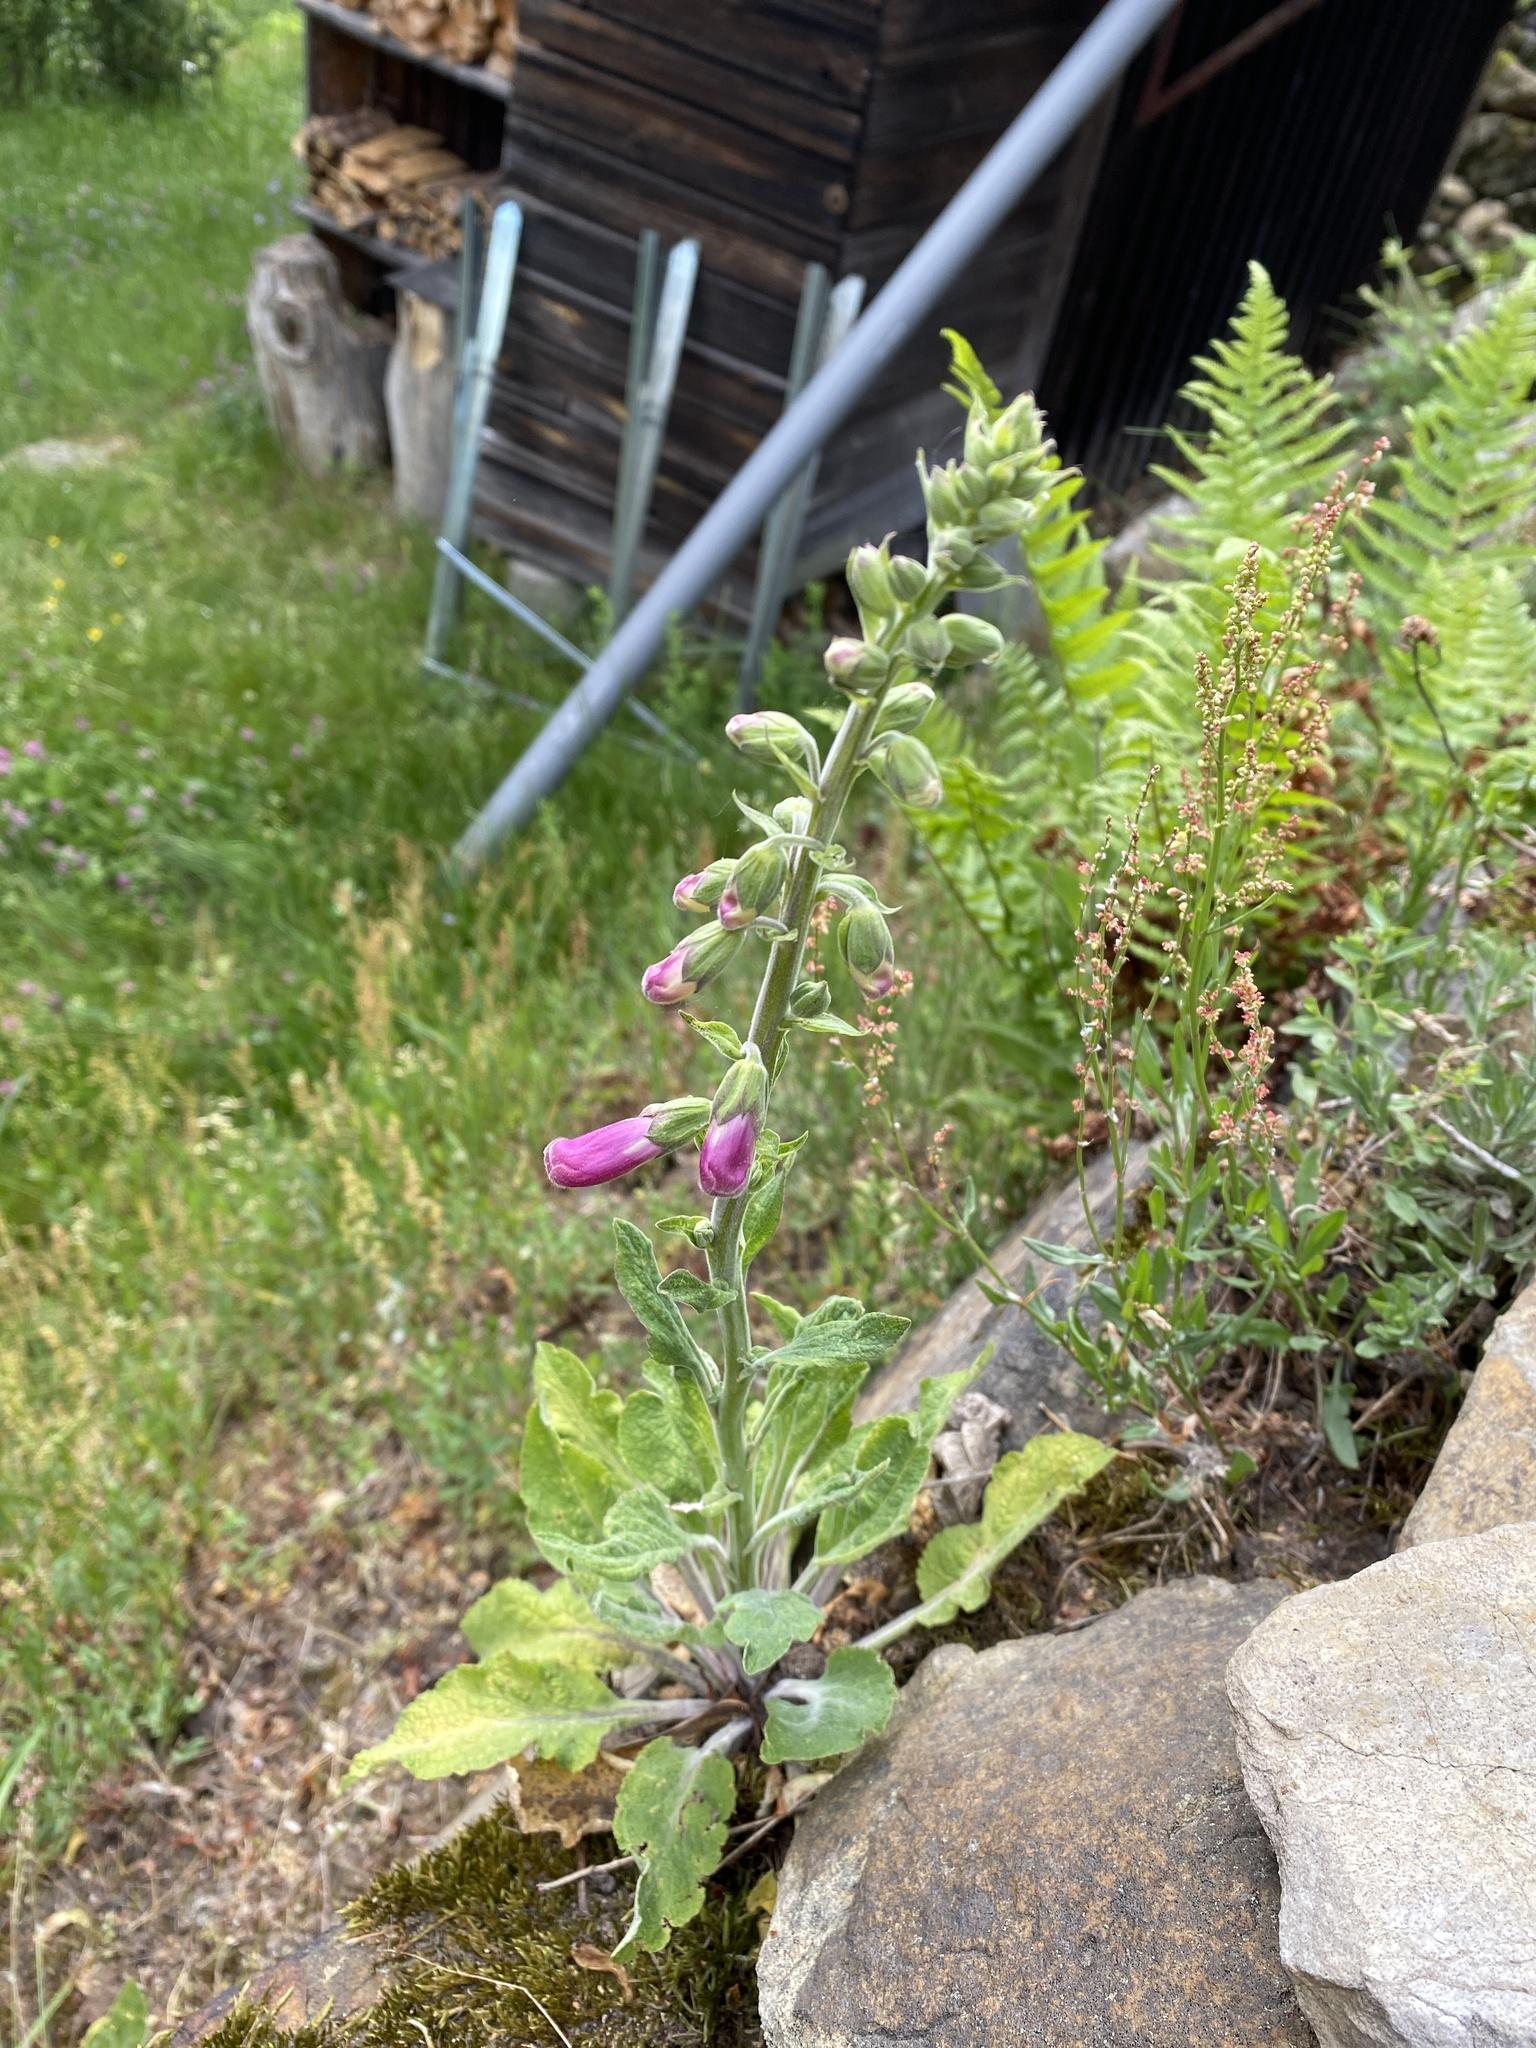Digitalis L: (402, 406, 1070, 1888)
